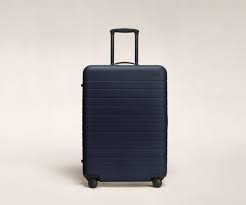suitcase: (80, 27, 169, 192)
